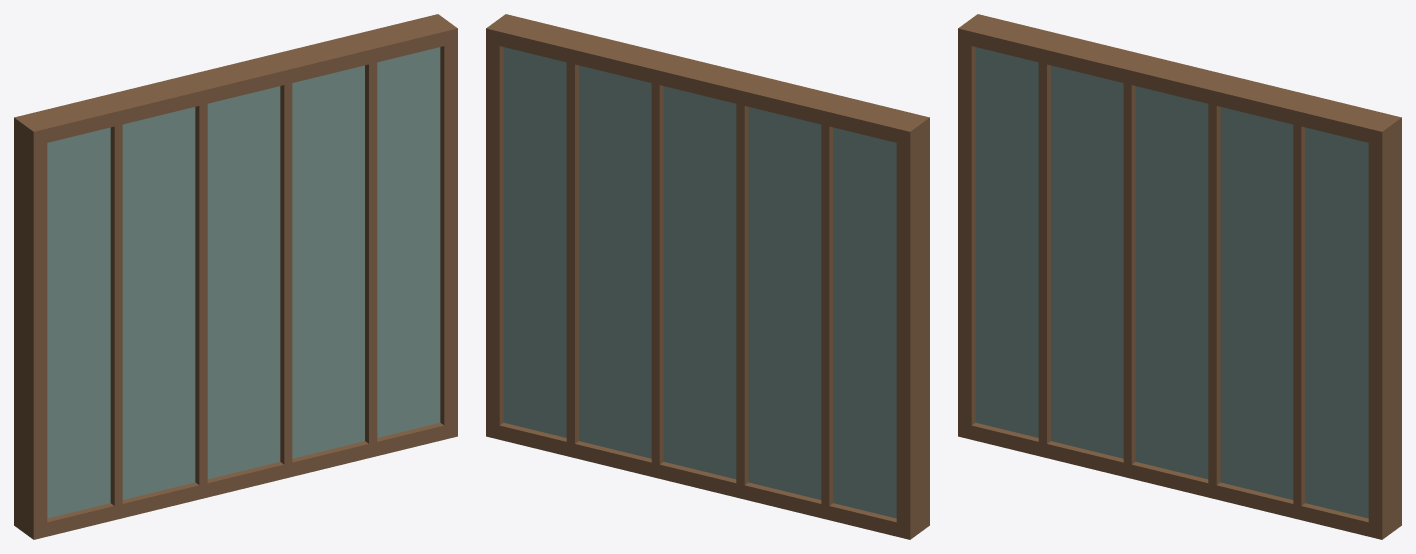
File: CH_WINDOWUNIT.fbx
3 renders of one model, left to right at view 1: azimuth 30°, elevation 25°; view 2: azimuth 150°, elevation 25°; view 3: azimuth 330°, elevation 25°, orthographic.
Visible parts, largest first — view 1: CH_WINDOWUNIT_LOD0; view 2: CH_WINDOWUNIT_LOD0; view 3: CH_WINDOWUNIT_LOD0.
Part boxes in pixels (x1,y1,x2,y2): CH_WINDOWUNIT_LOD0: [14, 14, 457, 539]; CH_WINDOWUNIT_LOD0: [486, 14, 929, 539]; CH_WINDOWUNIT_LOD0: [958, 14, 1401, 539].
Size of what is drawn, in the model's own units: 1.24 by 1.14 by 0.1.
